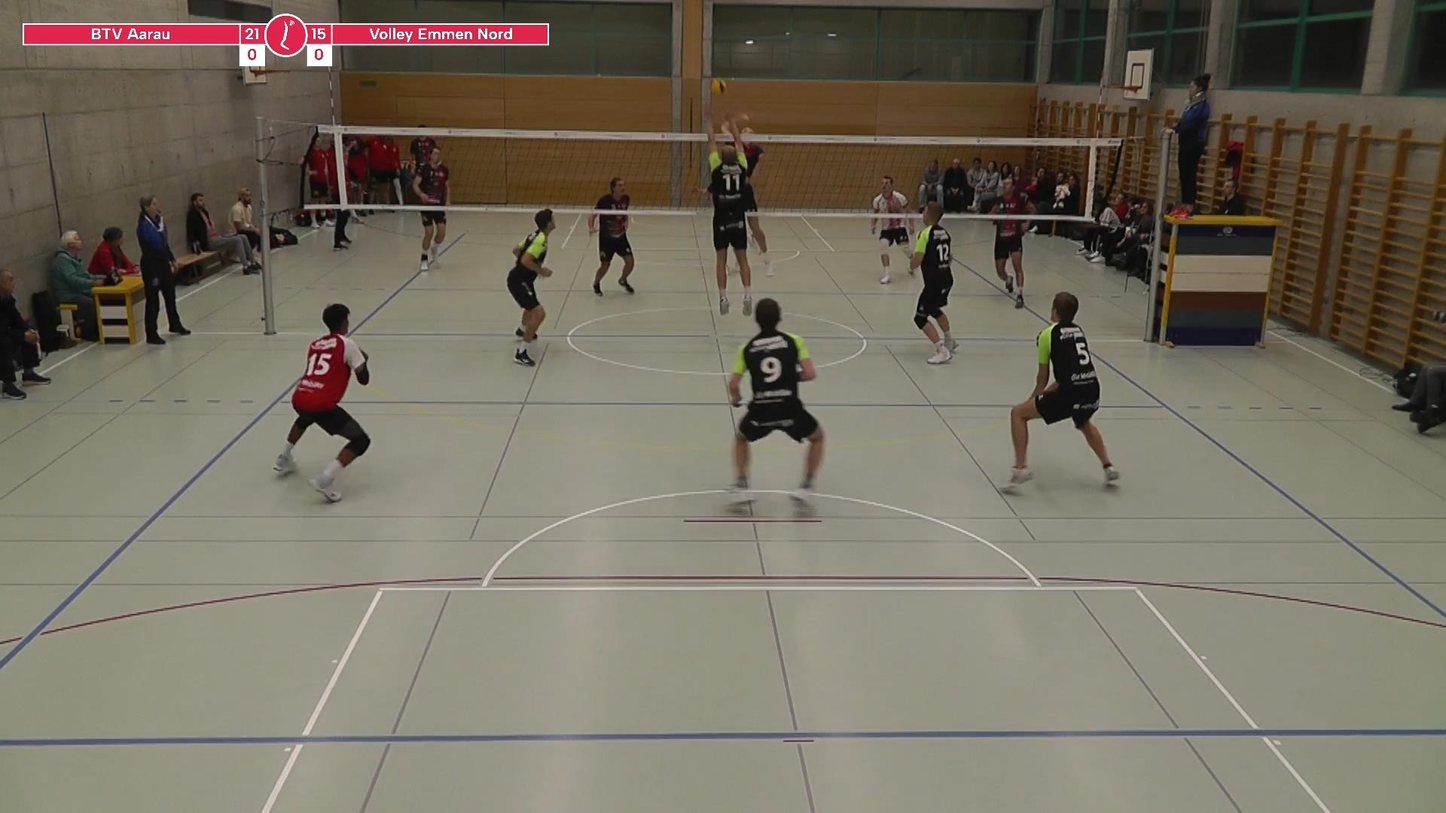Attack: (718, 110, 782, 251)
Block: (703, 108, 774, 302)
Player: (1008, 292, 1118, 484), (273, 303, 370, 502), (728, 298, 823, 501), (910, 201, 956, 364), (507, 209, 554, 366), (990, 178, 1034, 308), (413, 147, 450, 270), (871, 175, 911, 284), (588, 212, 634, 296)
ball: (710, 72, 727, 95)
